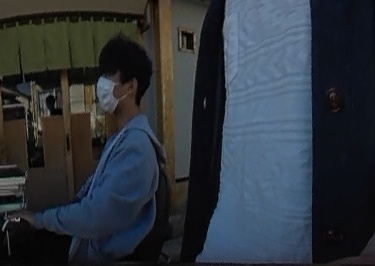person: (8, 32, 162, 260)
